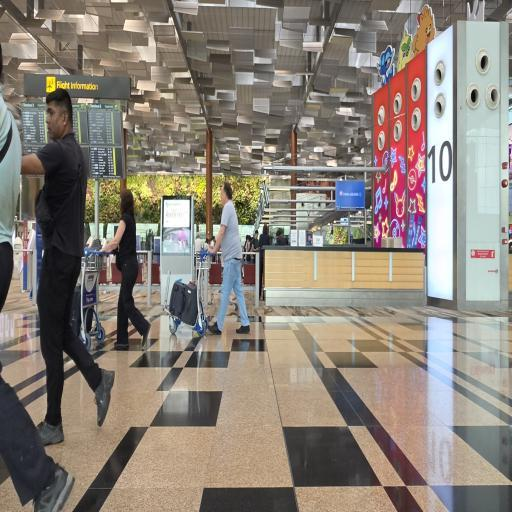person_left: (32, 86, 96, 424), (0, 44, 33, 512)
person_with_luggage_left: (164, 184, 250, 350), (76, 194, 148, 353)
